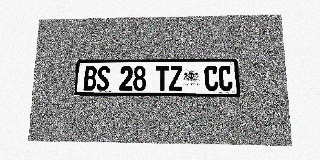2: (119, 66, 133, 91)
8: (133, 66, 146, 91)
B: (83, 66, 97, 91)
C: (218, 65, 233, 91), (204, 66, 219, 91)
S: (96, 66, 110, 91)
T: (156, 66, 169, 91)
Z: (169, 66, 183, 91)
